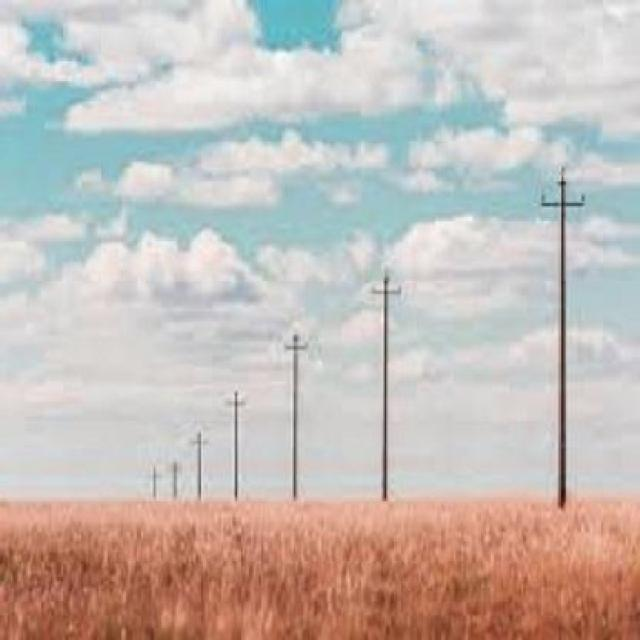non-critical vegetation: (530, 166, 598, 500), (360, 274, 411, 500), (276, 329, 318, 503), (223, 389, 249, 486)
